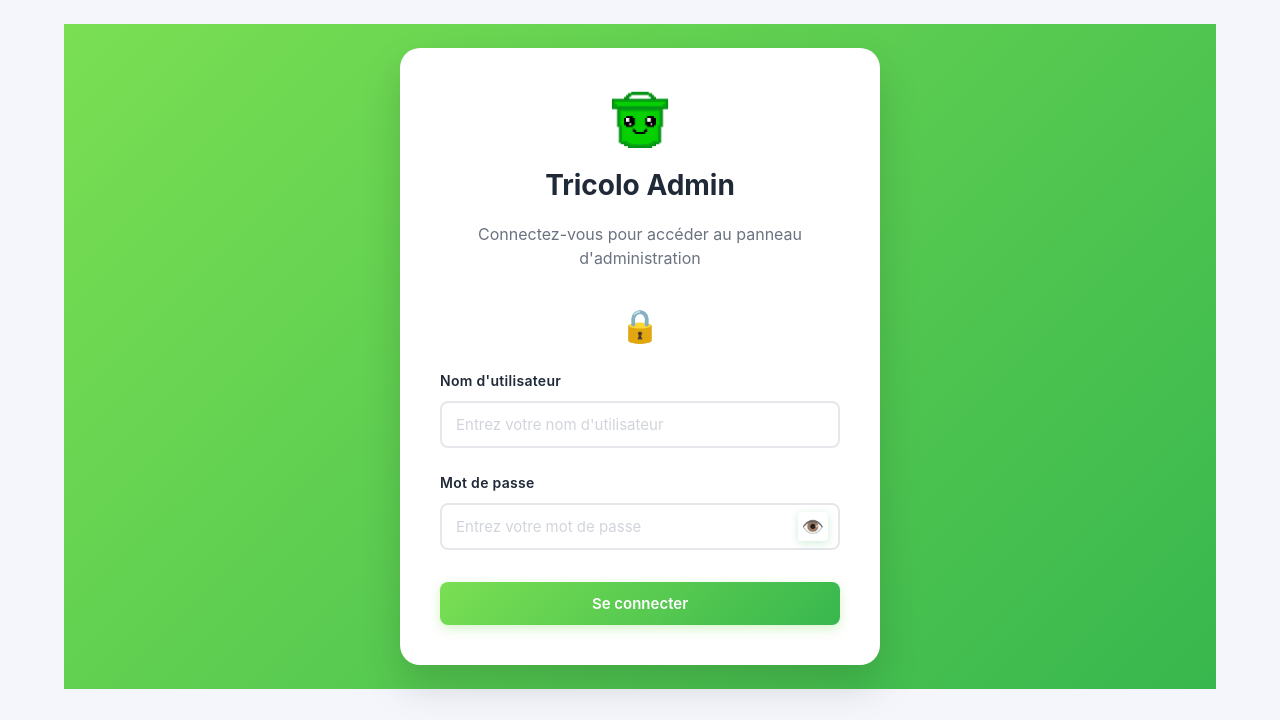
Scenario: AdminPage › login form › should display error message on login failure
The width and height of the screenshot is (1280, 720).
Type "admin" into the field with placeholder "Entrez votre nom d'utilisateur" at {"x": 640, "y": 424}, box top-left (440, 401), bottom-right (840, 448)
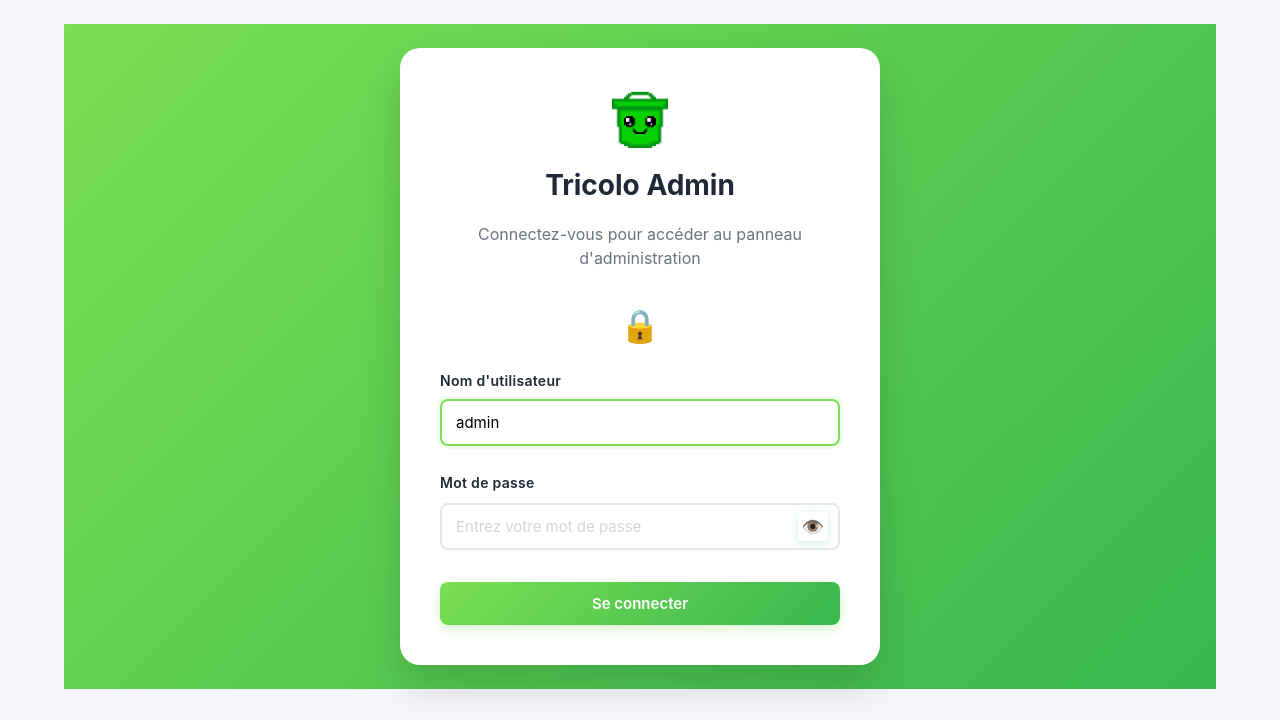
Type "wrongpass" into the password field with placeholder "Entrez votre mot de passe" at {"x": 640, "y": 526}, box top-left (440, 503), bottom-right (840, 550)
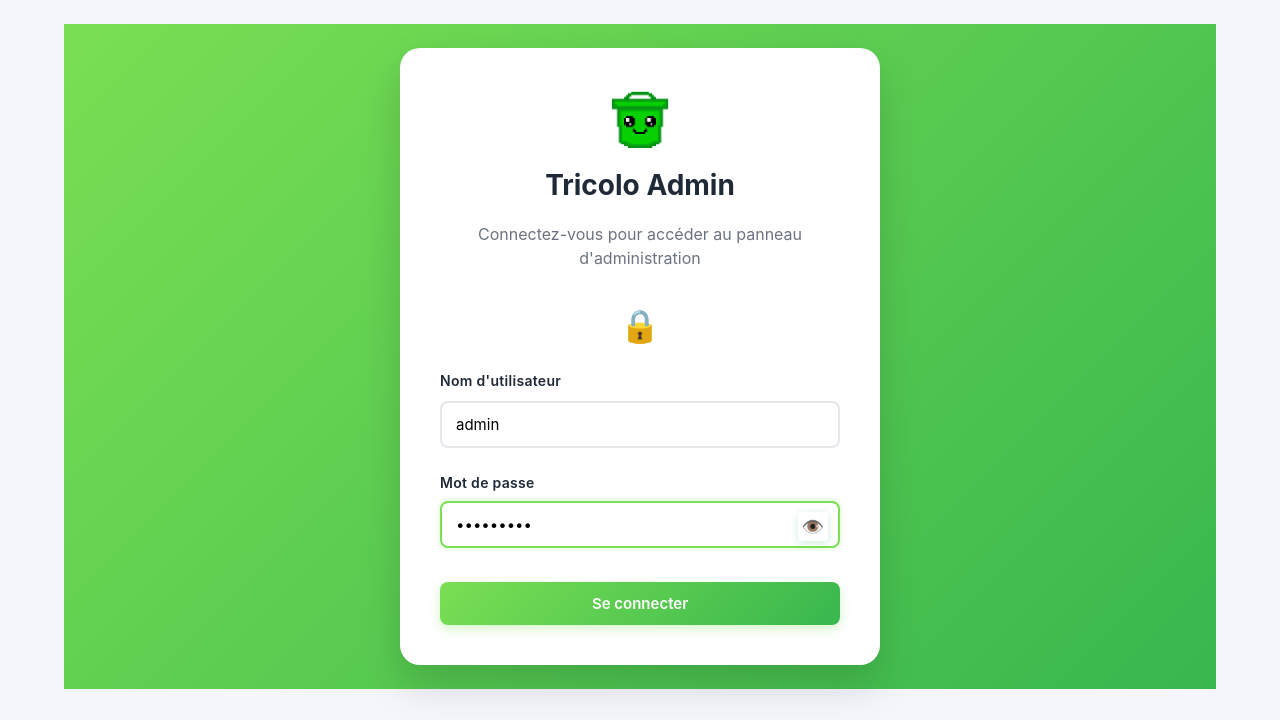
Click the button "Se connecter" at {"x": 640, "y": 604}, box top-left (440, 582), bottom-right (840, 625)
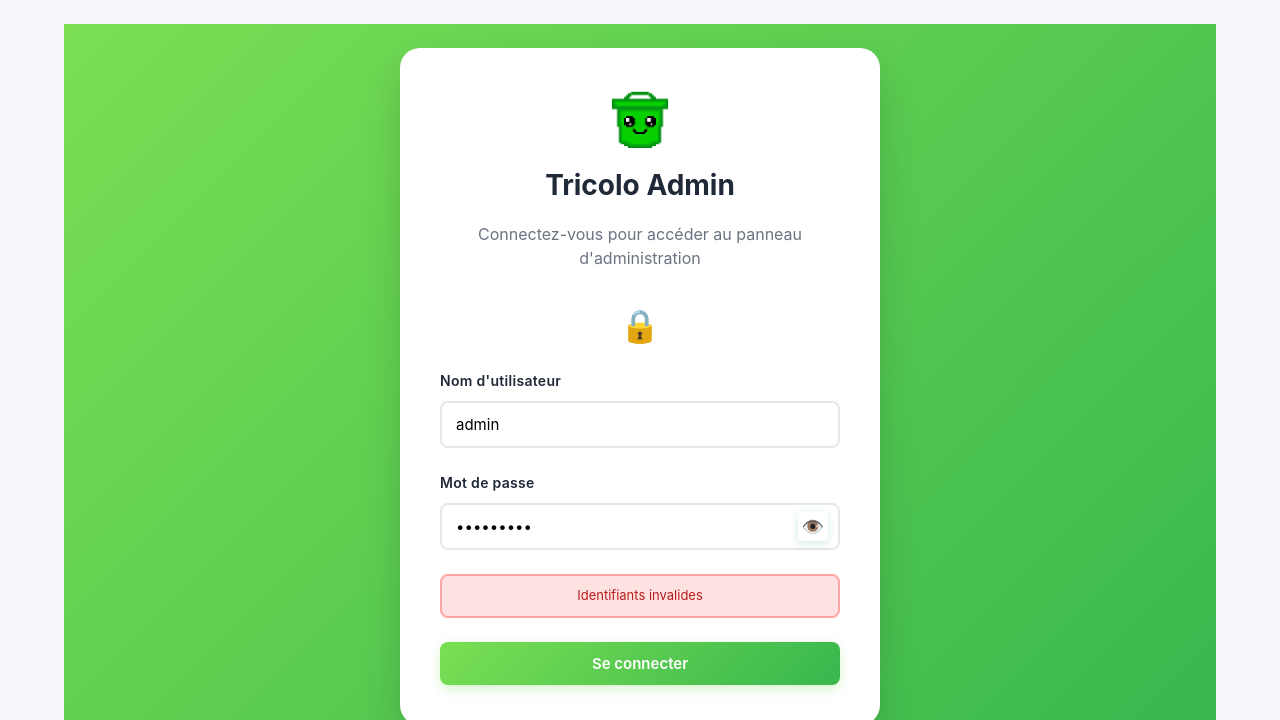
Result: the text "Identifiants invalides" is shown at top-left (440, 574), bottom-right (840, 618)
